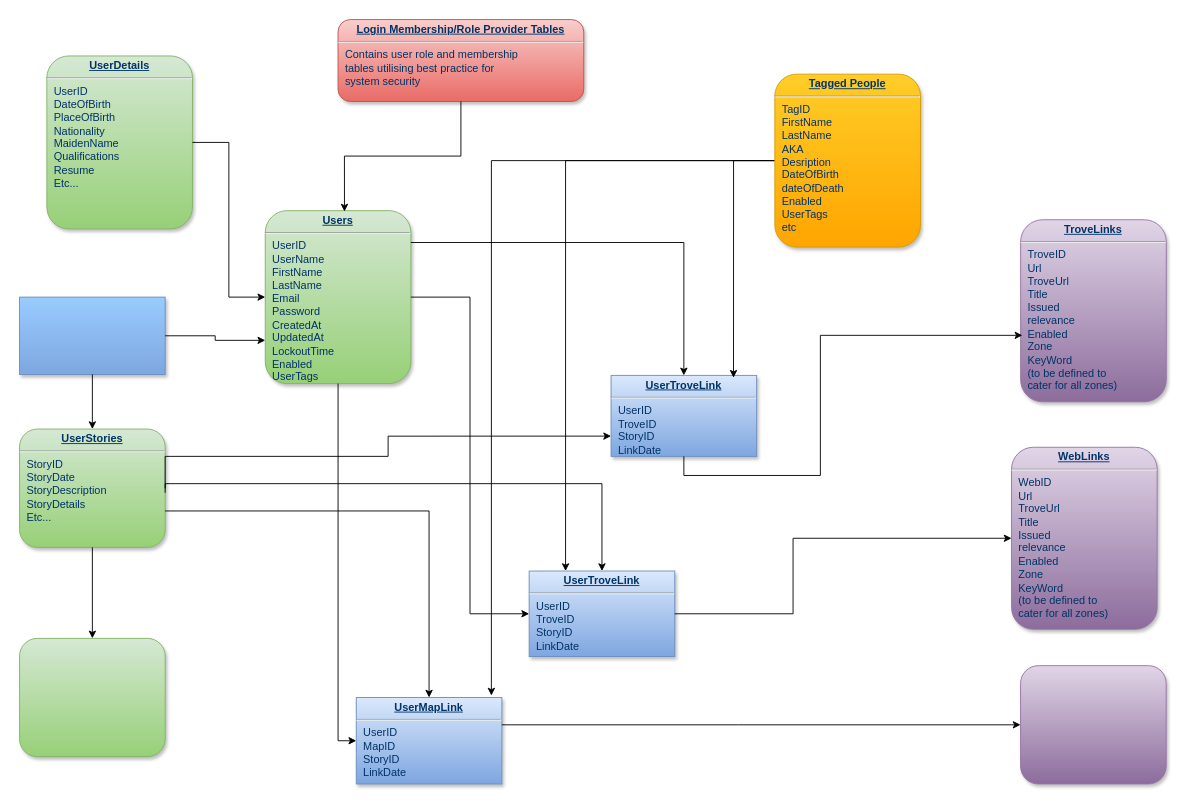
This 1188x806 diagram has some shape labels left out. Each missing label, with the centre of its shape:
"MapLinks MapID Dataset Latitude Longitude Etc..." belongs at [1094,725].
"StoriesItems StoryItemID StoryID ItemDescription ItemDate Document Etc..." belongs at [93,698].
"UserStoryLink UserID Story ID LinkDate" belongs at [93,337].
